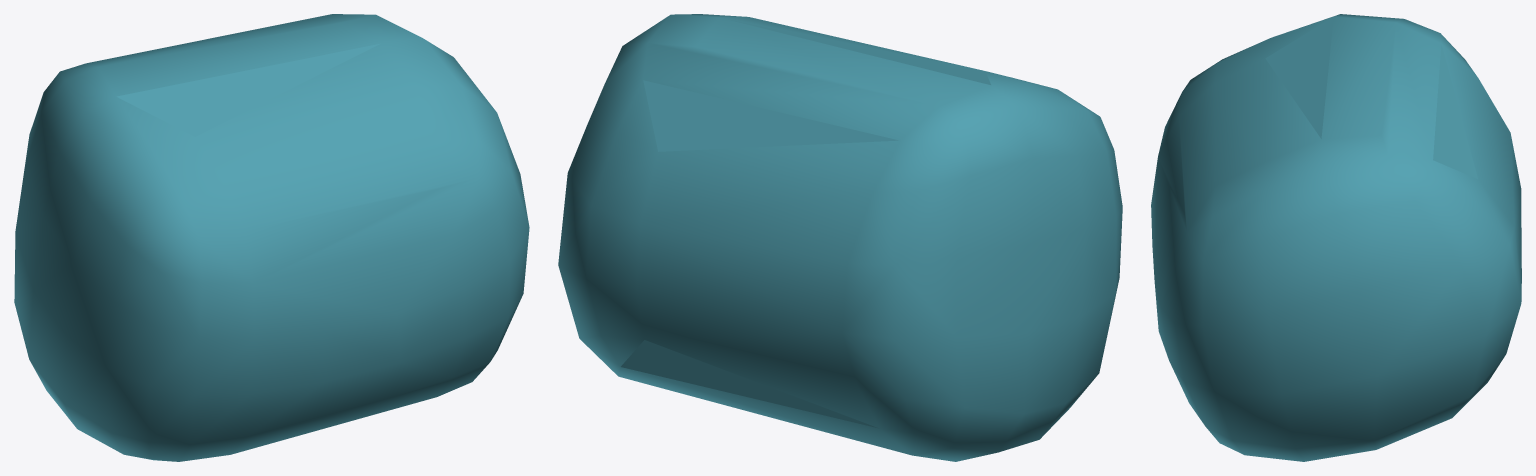
The model's file is COL_Alpha_Surface_026_convex_hull.dae.
The picture shows the model from 3 angles, left to right: view 1: azimuth 30°, elevation 25°; view 2: azimuth 150°, elevation 25°; view 3: azimuth 270°, elevation 25°; orthographic projection. The views are drawn at different scales.
Visible parts, largest first — view 1: COL_Alpha_Surface_026_convex_hull; view 2: COL_Alpha_Surface_026_convex_hull; view 3: COL_Alpha_Surface_026_convex_hull.
Boxes of the visible parts, x1,y1,x2,y2 form: COL_Alpha_Surface_026_convex_hull: (14, 14, 529, 461); COL_Alpha_Surface_026_convex_hull: (558, 14, 1122, 461); COL_Alpha_Surface_026_convex_hull: (1151, 14, 1521, 461).
Bounding box in the file's own units: 2.85 × 2.25 × 2.13.
